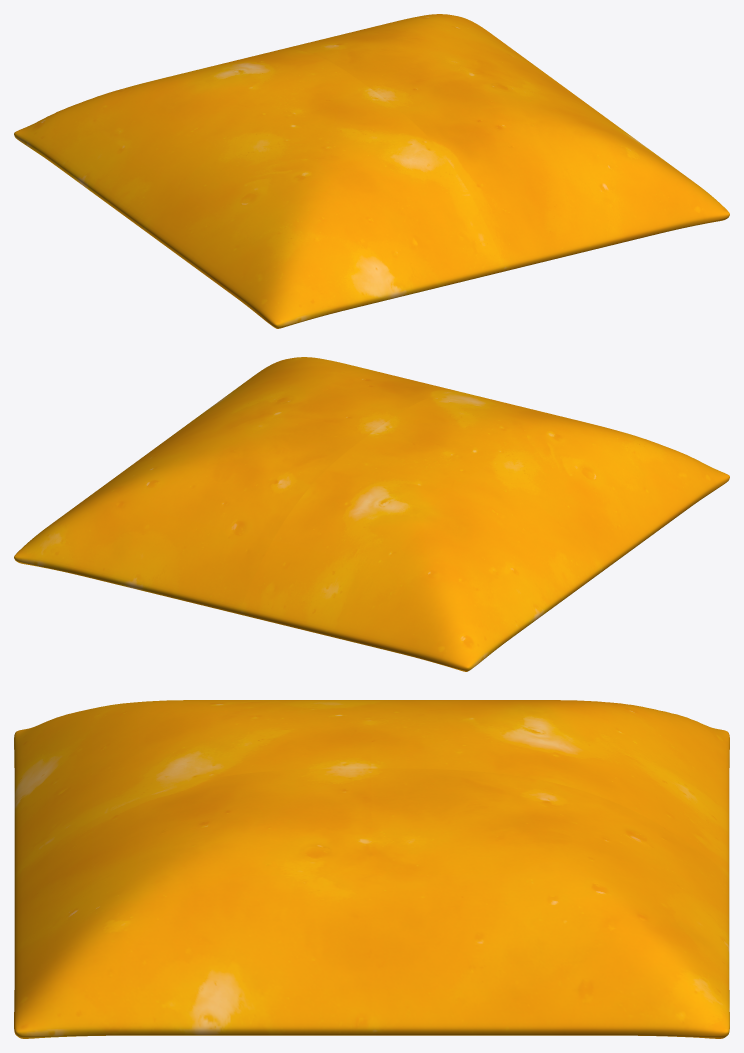
File: cheese.glb
3 views of the same model, one above another, from view 1: azimuth 30°, elevation 25°; view 2: azimuth 150°, elevation 25°; view 3: azimuth 270°, elevation 25° (orthographic). The views are drawn at different scales.
Parts seen in each view (by area): view 1: Plane; view 2: Plane; view 3: Plane.
Boxes of the visible parts, x1=… form: Plane: x1=14, y1=14, x2=729, y2=328; Plane: x1=14, y1=357, x2=729, y2=671; Plane: x1=14, y1=700, x2=729, y2=1038.
Size of the model in its own units: 1.88 by 0.356 by 1.88.
Materials: 1 (1 with a texture image).
